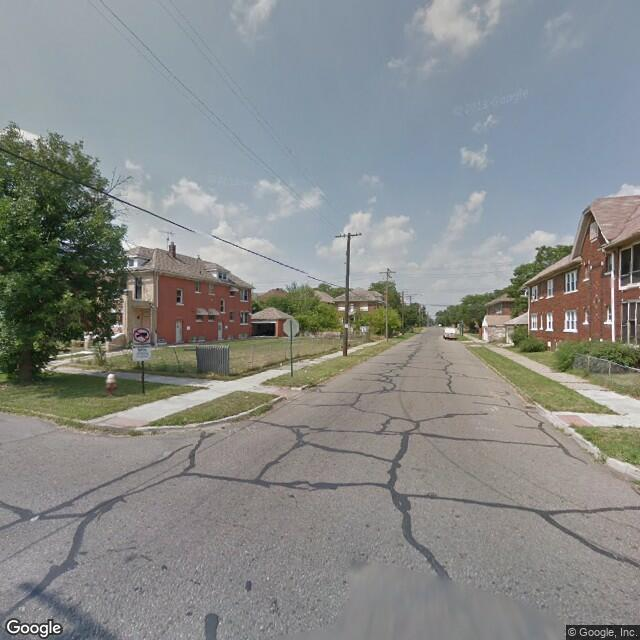litter: (275, 362, 284, 367), (301, 369, 310, 373)
